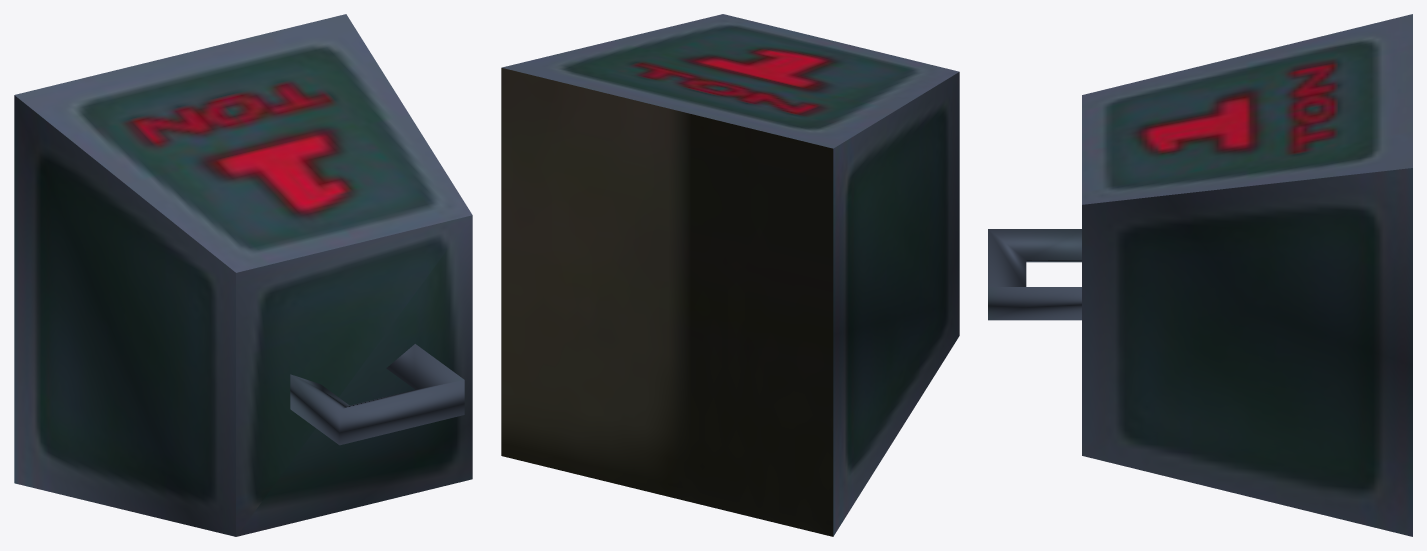
File: weight.glb
3 renders of one model, left to right at view 1: azimuth 30°, elevation 25°; view 2: azimuth 150°, elevation 25°; view 3: azimuth 270°, elevation 25°, orthographic. The views are drawn at different scales.
Parts seen in each view (by area): view 1: joint_scale_big_weight_drop; view 2: joint_scale_big_weight_drop; view 3: joint_scale_big_weight_drop.
Part boxes in pixels (left/top/right/bottom): joint_scale_big_weight_drop: left=14, top=14, right=472, bottom=536; joint_scale_big_weight_drop: left=501, top=14, right=959, bottom=536; joint_scale_big_weight_drop: left=988, top=14, right=1412, bottom=536.
Size of the model in its own units: 5.06 by 5.65 by 5.9.
Materials: 4 (4 with a texture image).
